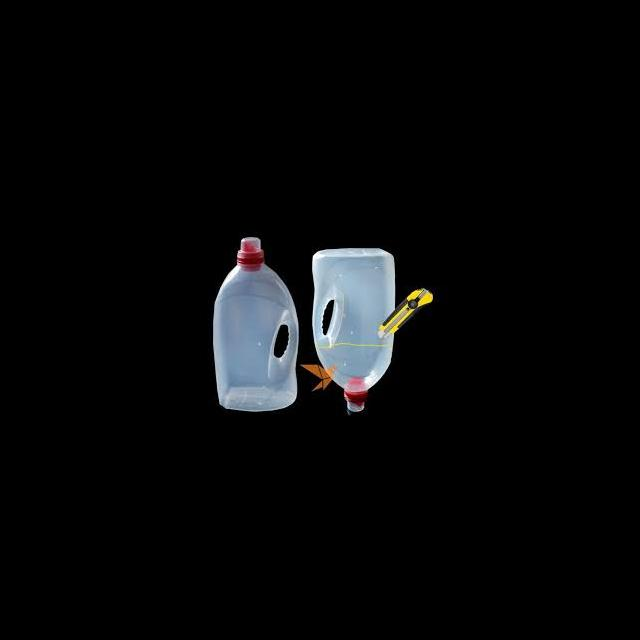metal: (378, 308, 407, 336)
plastic: (211, 236, 297, 412), (311, 248, 395, 412), (234, 237, 264, 270), (342, 378, 366, 411)
